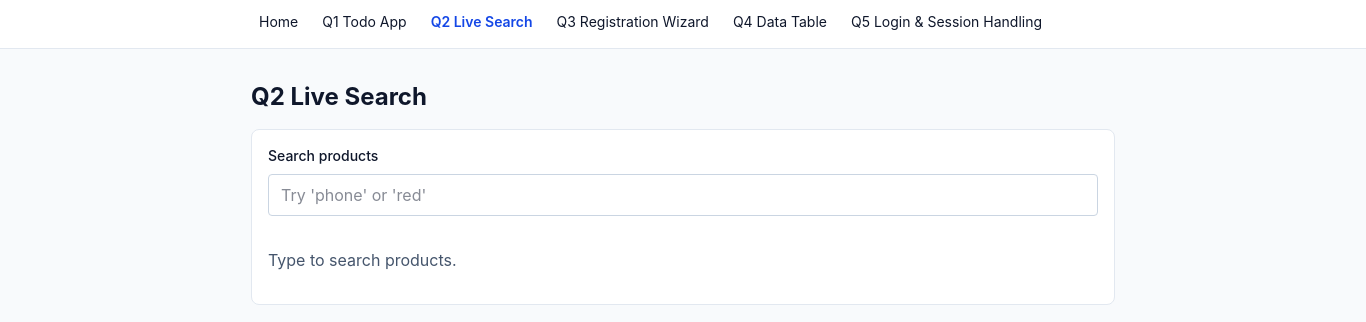
Test case: search page: result states › shows an error with a Retry action when the search fails
The image size is (1366, 322).
Step 1. Type "red" into the search field labelled "Search products" → (683, 195), box top-left (268, 174), bottom-right (1098, 216)
Wait 300 ms
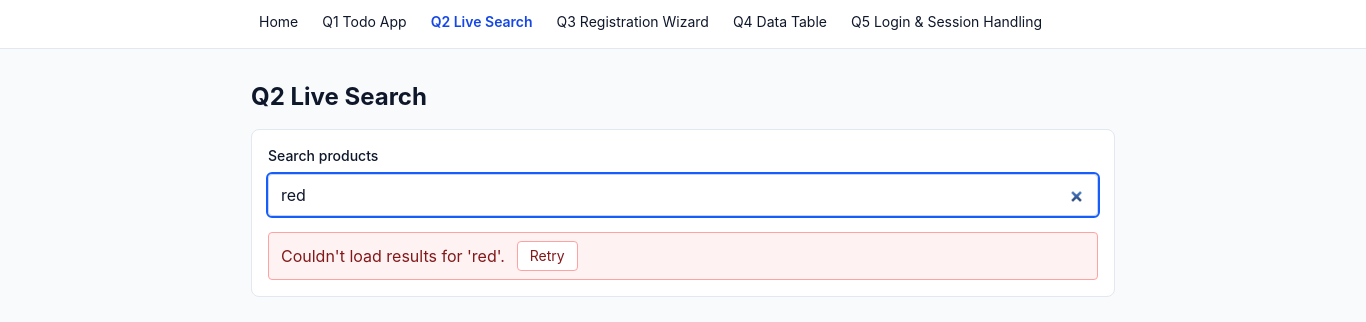
Now the message shows "Couldn't load results for 'red'.", box top-left (268, 232), bottom-right (1098, 280)
Now the button "Retry" is shown, box top-left (517, 241), bottom-right (578, 271)
